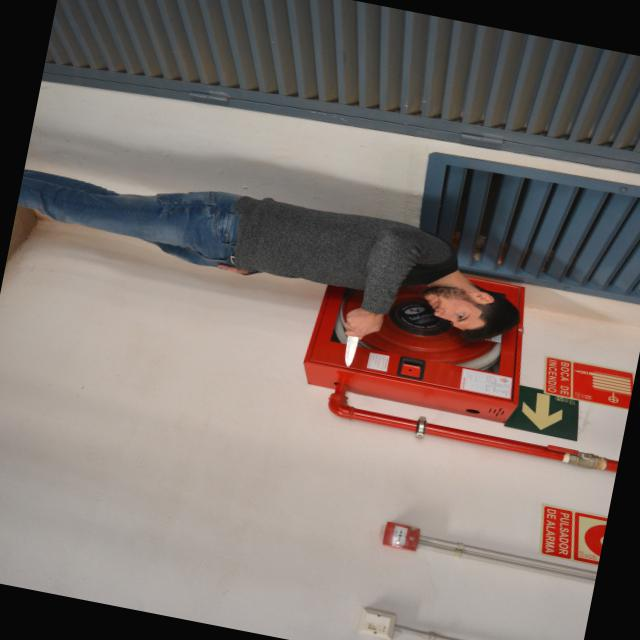knife: (337, 324, 368, 370)
